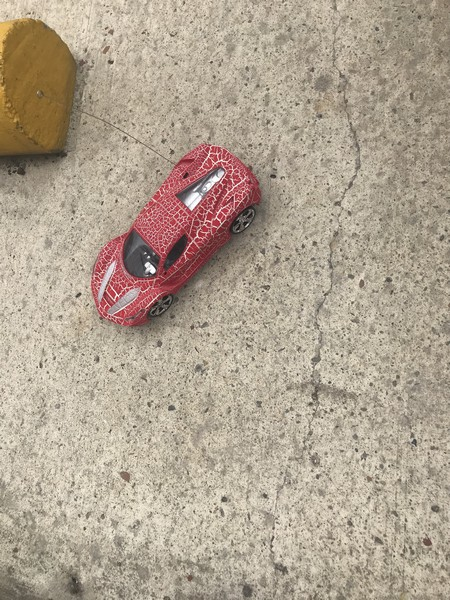RC: (91, 142, 264, 329)
